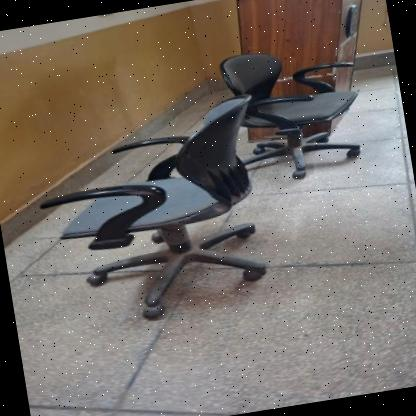chair: (16, 86, 295, 338), (212, 26, 382, 192)
